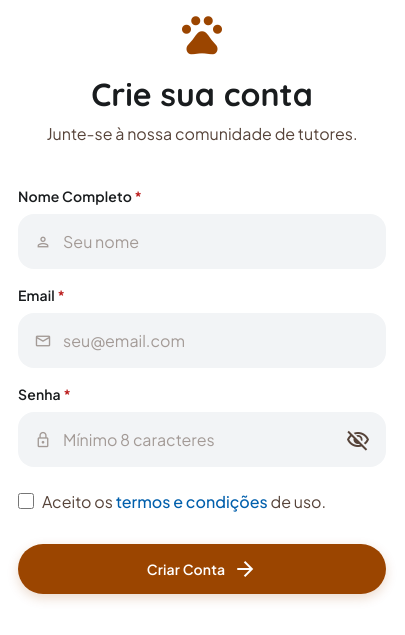
Scenario: RegisterForm Component › should validate empty fields on submit
Click the button "Criar Conta" at {"x": 202, "y": 569}, box [18,544,386,594]
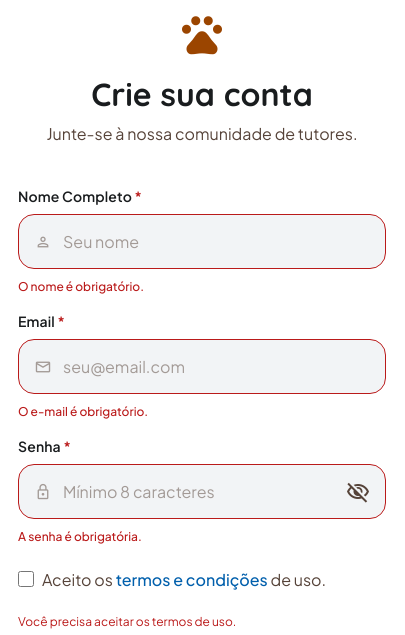
Expected: the text "O nome é obrigatório." is shown, [18,279,144,294]
Expected: the text "O e-mail é obrigatório." is shown, [18,404,148,419]
Expected: the text "A senha é obrigatória." is shown, [18,529,142,544]
